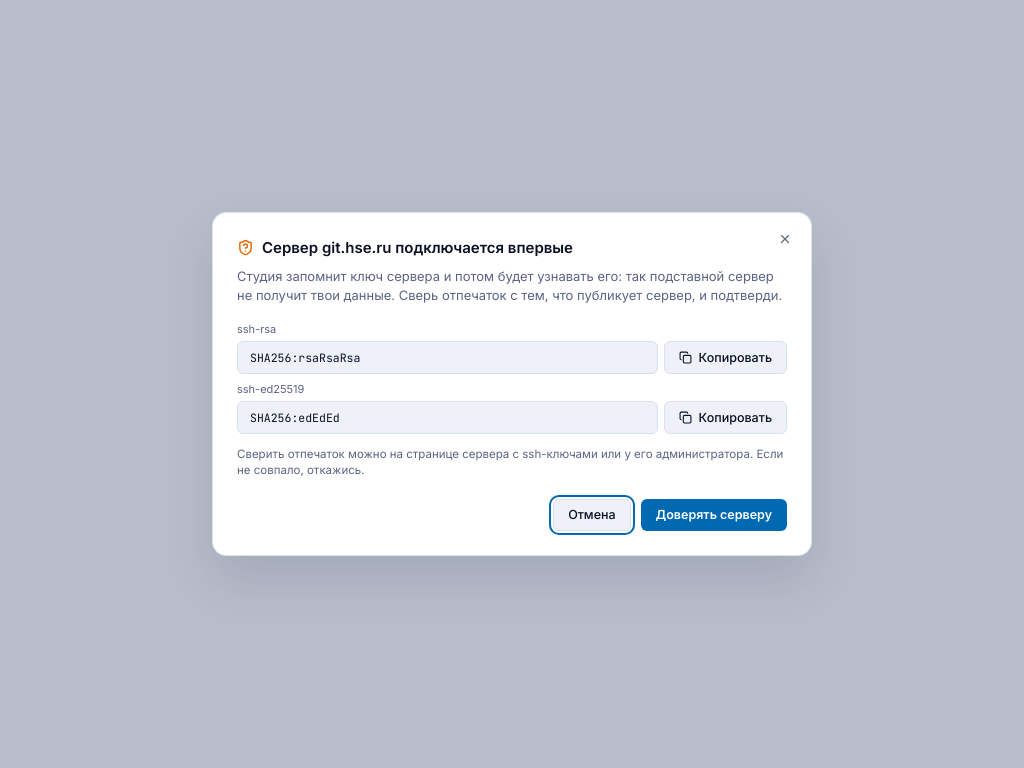
Test case: HostKeyDialog: незнакомый сервер › если сервер уже известен с другим ключом, окно переходит к замене
The image size is (1024, 768).
Click the button "Доверять серверу": [714, 515] box x1=641 y1=499 x2=787 y2=531
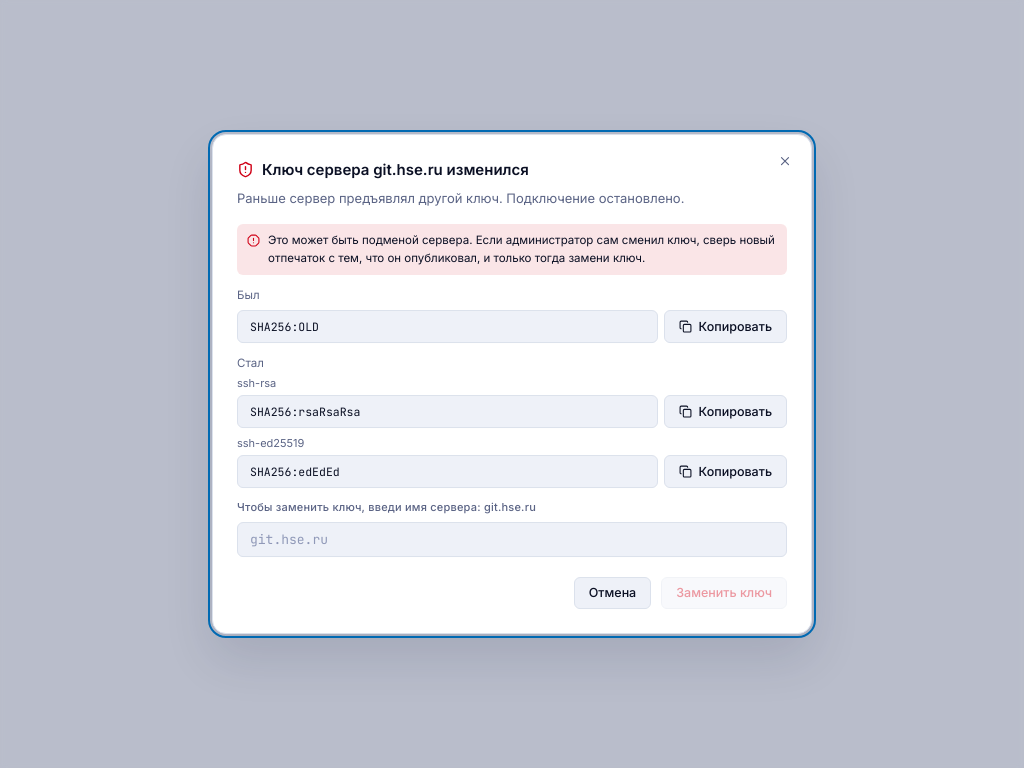
expect the field named "Отпечаток ключа" is shown: met, box x1=237 y1=310 x2=658 y2=344
expect the dialog "Ключ сервера git.hse.ru изменился" is shown: met, box x1=212 y1=134 x2=812 y2=634
